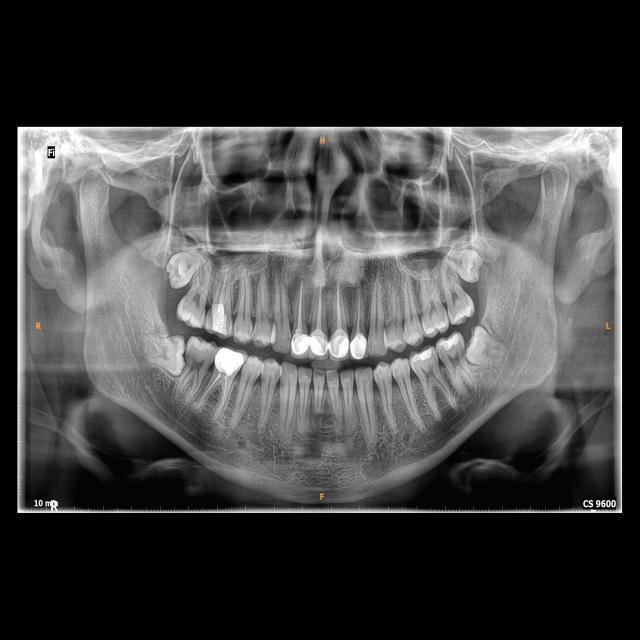dentin-curugu: (184, 348, 206, 375)
dolgu: (206, 306, 234, 338), (408, 344, 436, 364), (438, 335, 462, 355)
kanal-tedavisi: (203, 370, 230, 413), (292, 277, 308, 332), (350, 290, 366, 335), (312, 282, 327, 329), (332, 284, 347, 330), (216, 273, 232, 304)
kaplama: (212, 346, 245, 376), (328, 329, 349, 360), (310, 327, 329, 358), (349, 331, 368, 362), (290, 330, 310, 358)
